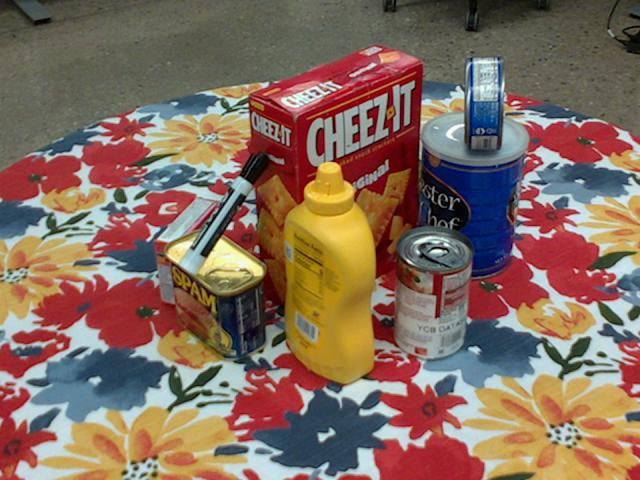cracker_box: (247, 44, 424, 318)
gelatin_box: (155, 196, 222, 306)
large_marker: (179, 149, 269, 274)
master_chef_can: (418, 111, 526, 281)
mug: (248, 126, 347, 225)
mustard_bottle: (285, 161, 376, 384)
potted_meat_can: (165, 229, 267, 361)
sugar_box: (301, 89, 462, 206)
tomato_soup_can: (393, 226, 473, 360)
tuna_fish_can: (464, 56, 504, 149)
